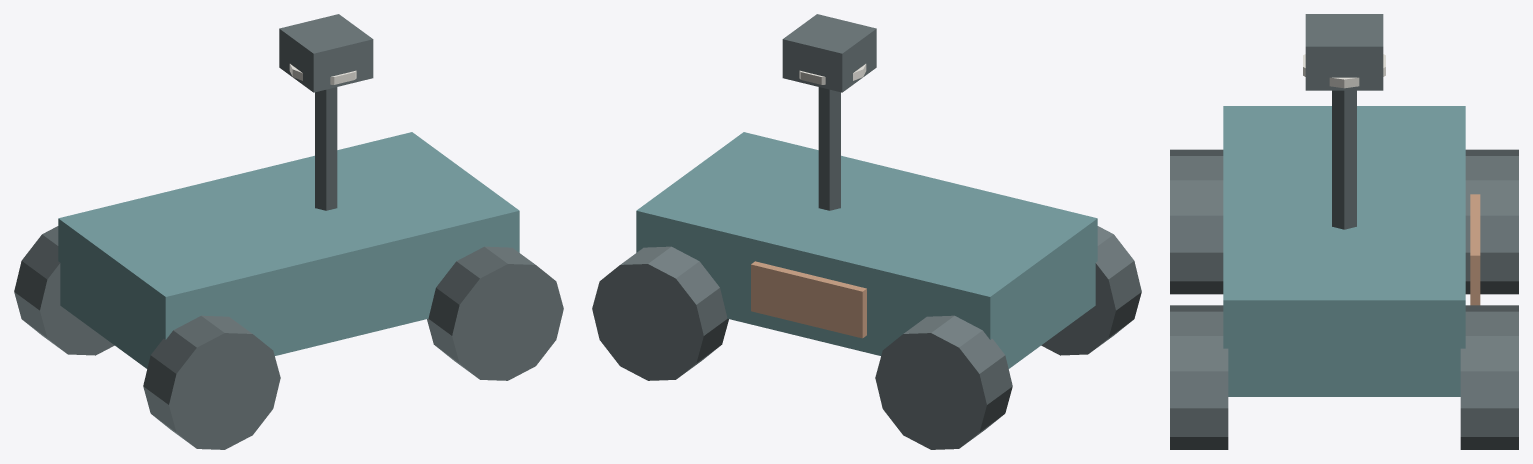
The model's file is rover-ref.glb.
The picture shows the model from 3 angles, left to right: view 1: azimuth 30°, elevation 25°; view 2: azimuth 150°, elevation 25°; view 3: azimuth 270°, elevation 25°; orthographic projection. The views are drawn at different scales.
Parts seen in each view (by area): view 1: rover-ref_root; view 2: rover-ref_root; view 3: rover-ref_root.
Part boxes in pixels (x1,y1,x2,y2): rover-ref_root: [14, 14, 563, 449]; rover-ref_root: [592, 14, 1141, 449]; rover-ref_root: [1170, 14, 1518, 449].
Bounding box in the file's own units: 1.06 × 0.81 × 0.72.
